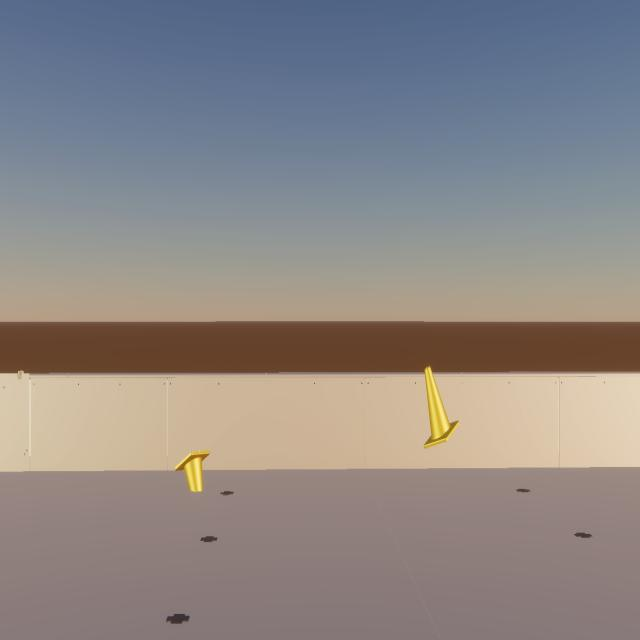frc_cone: (424, 366, 459, 449), (174, 450, 210, 492)
